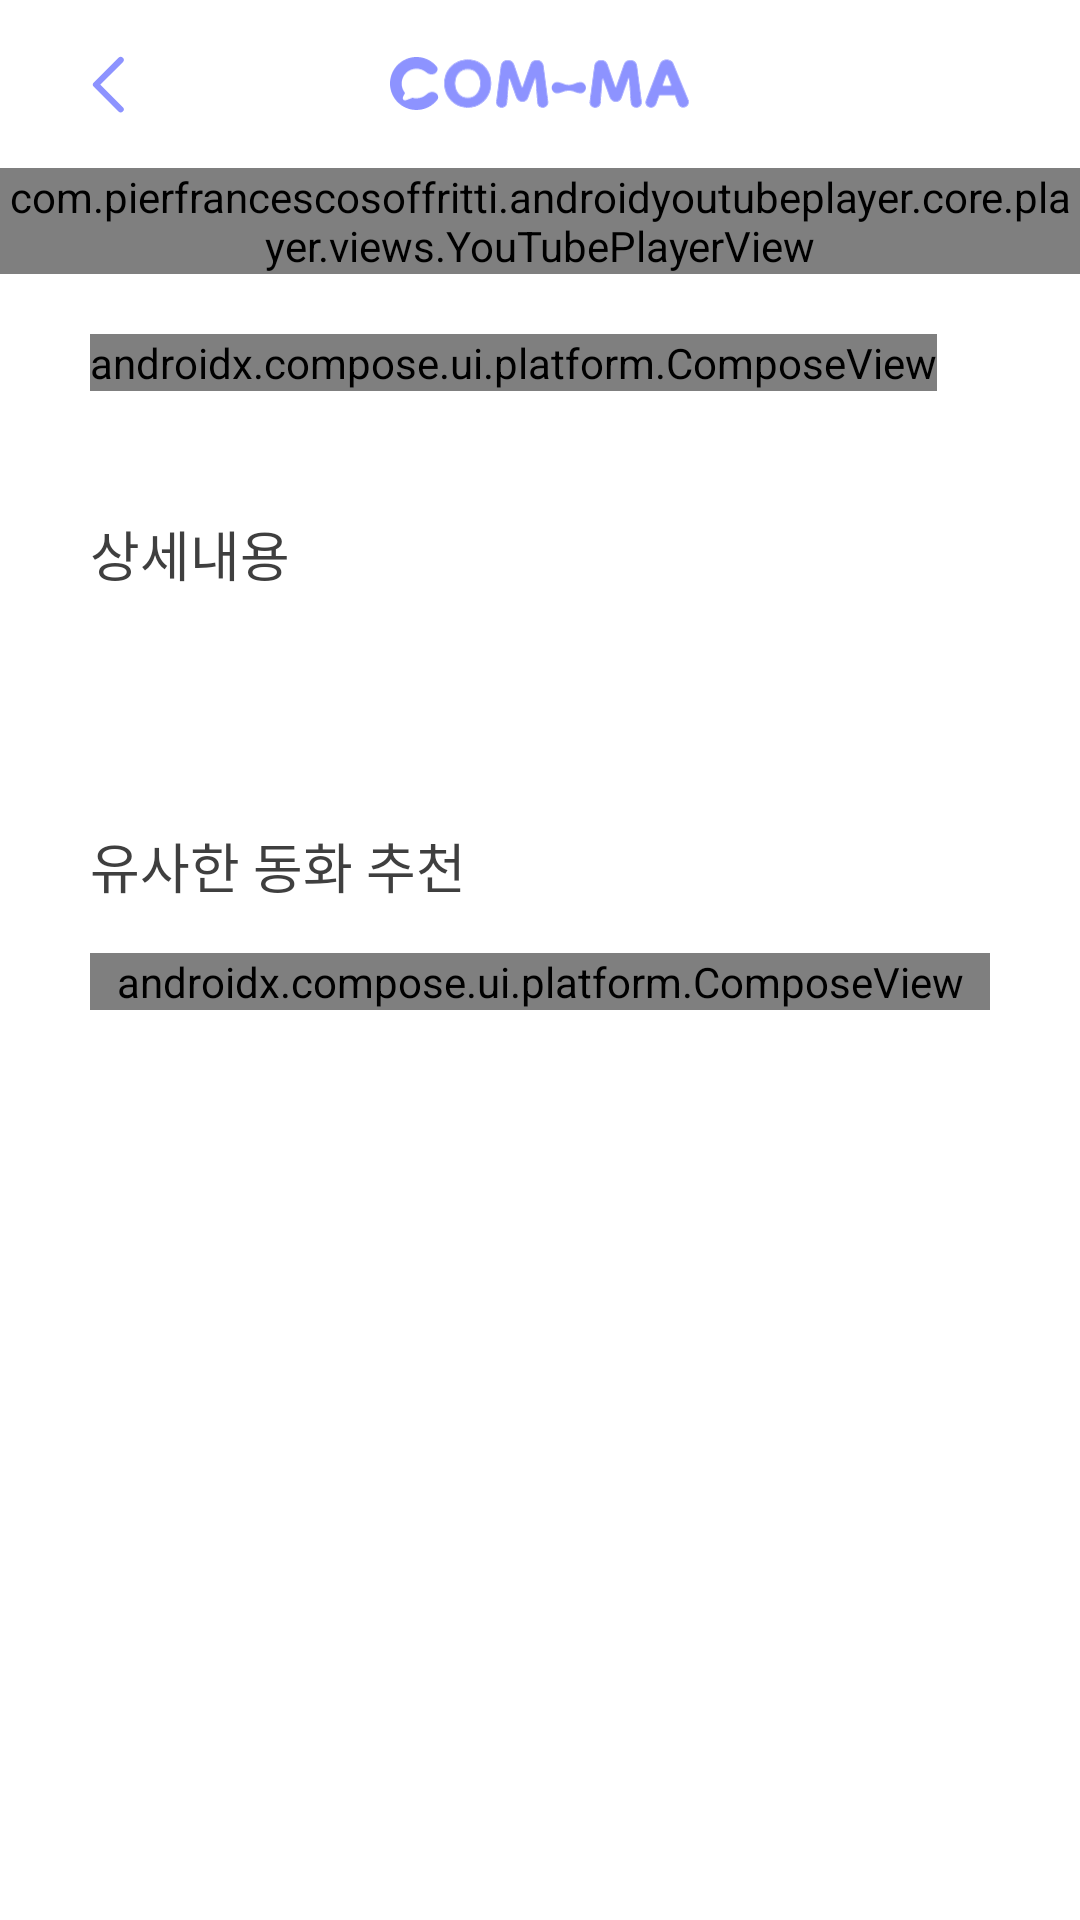

Icons on this 1080*1920 Android screen, each with its box as [x1,y1,x2,y2]:
arrow left: [93,57,124,113]
